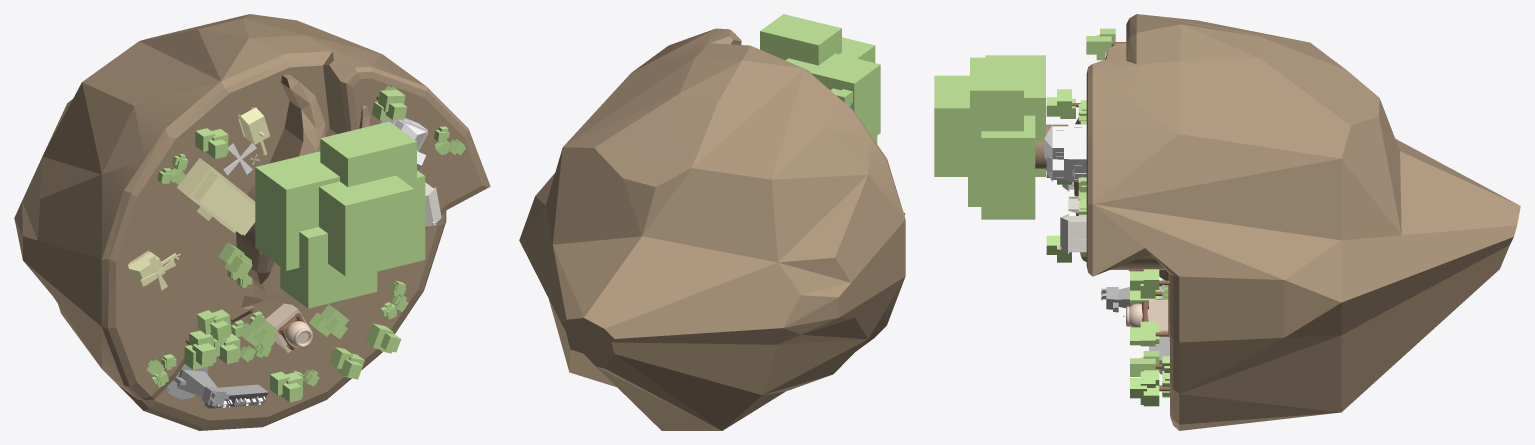
The model's file is Petworld.gltf.
3 views of the same model, side by side, from view 1: azimuth 30°, elevation 25°; view 2: azimuth 150°, elevation 25°; view 3: azimuth 270°, elevation 25° (orthographic). The views are drawn at different scales.
Parts seen in each view (by area): view 1: group_0, group_3, group_5, group_2, group_6, group_24, group_77, Component_1, group_4, group_29, group_17, group_42 (+14 smaller); view 2: group_0, group_5, group_2, group_3; view 3: group_0, group_4, group_2, group_3, group_14, group_5, group_45, group_61, group_74, group_17, group_25, group_60 (+3 smaller).
Boxes of the visible parts, bbox=[...] form: group_0: bbox=[14, 14, 490, 430]; group_3: bbox=[319, 175, 414, 275]; group_5: bbox=[255, 151, 339, 270]; group_2: bbox=[320, 121, 416, 219]; group_6: bbox=[280, 227, 377, 308]; group_24: bbox=[177, 158, 255, 235]; group_77: bbox=[174, 370, 229, 405]; Component_1: bbox=[127, 250, 180, 290]; group_4: bbox=[377, 170, 425, 271]; group_29: bbox=[184, 330, 216, 369]; group_17: bbox=[372, 90, 407, 120]; group_42: bbox=[238, 107, 269, 155]; group_0: bbox=[519, 28, 905, 430]; group_5: bbox=[785, 53, 880, 138]; group_2: bbox=[760, 14, 841, 65]; group_3: bbox=[840, 37, 875, 62]; group_0: bbox=[1035, 14, 1520, 430]; group_4: bbox=[981, 115, 1035, 219]; group_2: bbox=[970, 57, 1023, 166]; group_3: bbox=[934, 75, 981, 176]; group_14: bbox=[1044, 124, 1086, 181]; group_5: bbox=[985, 55, 1045, 176]; group_45: bbox=[1058, 214, 1086, 253]; group_61: bbox=[1130, 371, 1159, 406]; group_74: bbox=[1130, 269, 1159, 298]; group_17: bbox=[1046, 89, 1075, 118]; group_25: bbox=[1086, 28, 1115, 60]; group_60: bbox=[1130, 321, 1159, 346].
Bounding box in the file's own units: 3102 × 3169 × 4414.
